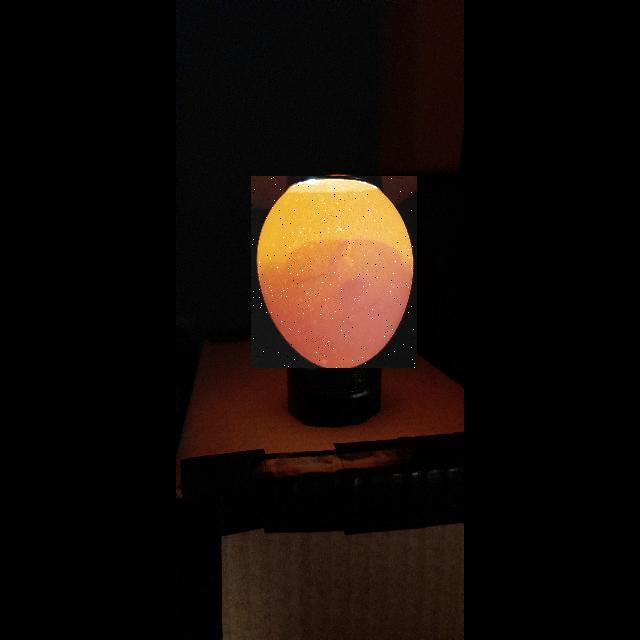Fertile: (251, 176, 417, 368)
